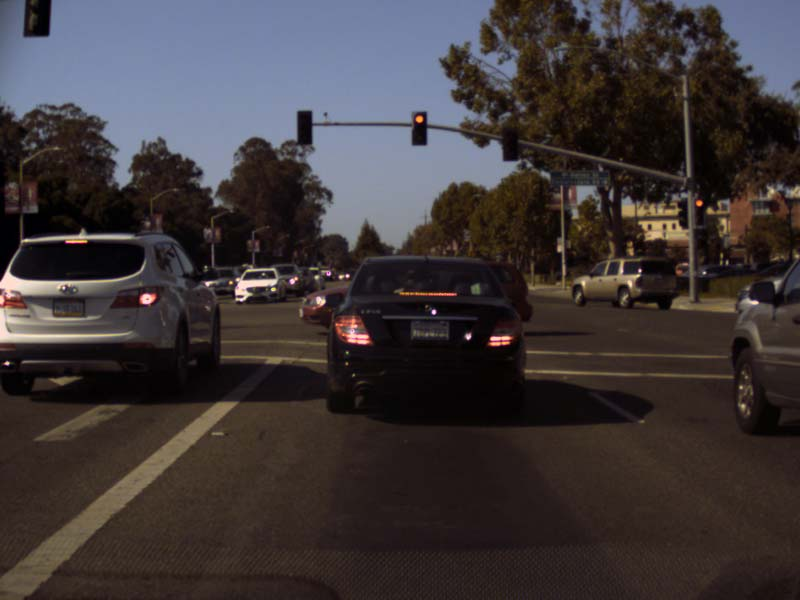Red: (411, 110, 426, 144), (693, 197, 705, 224)
